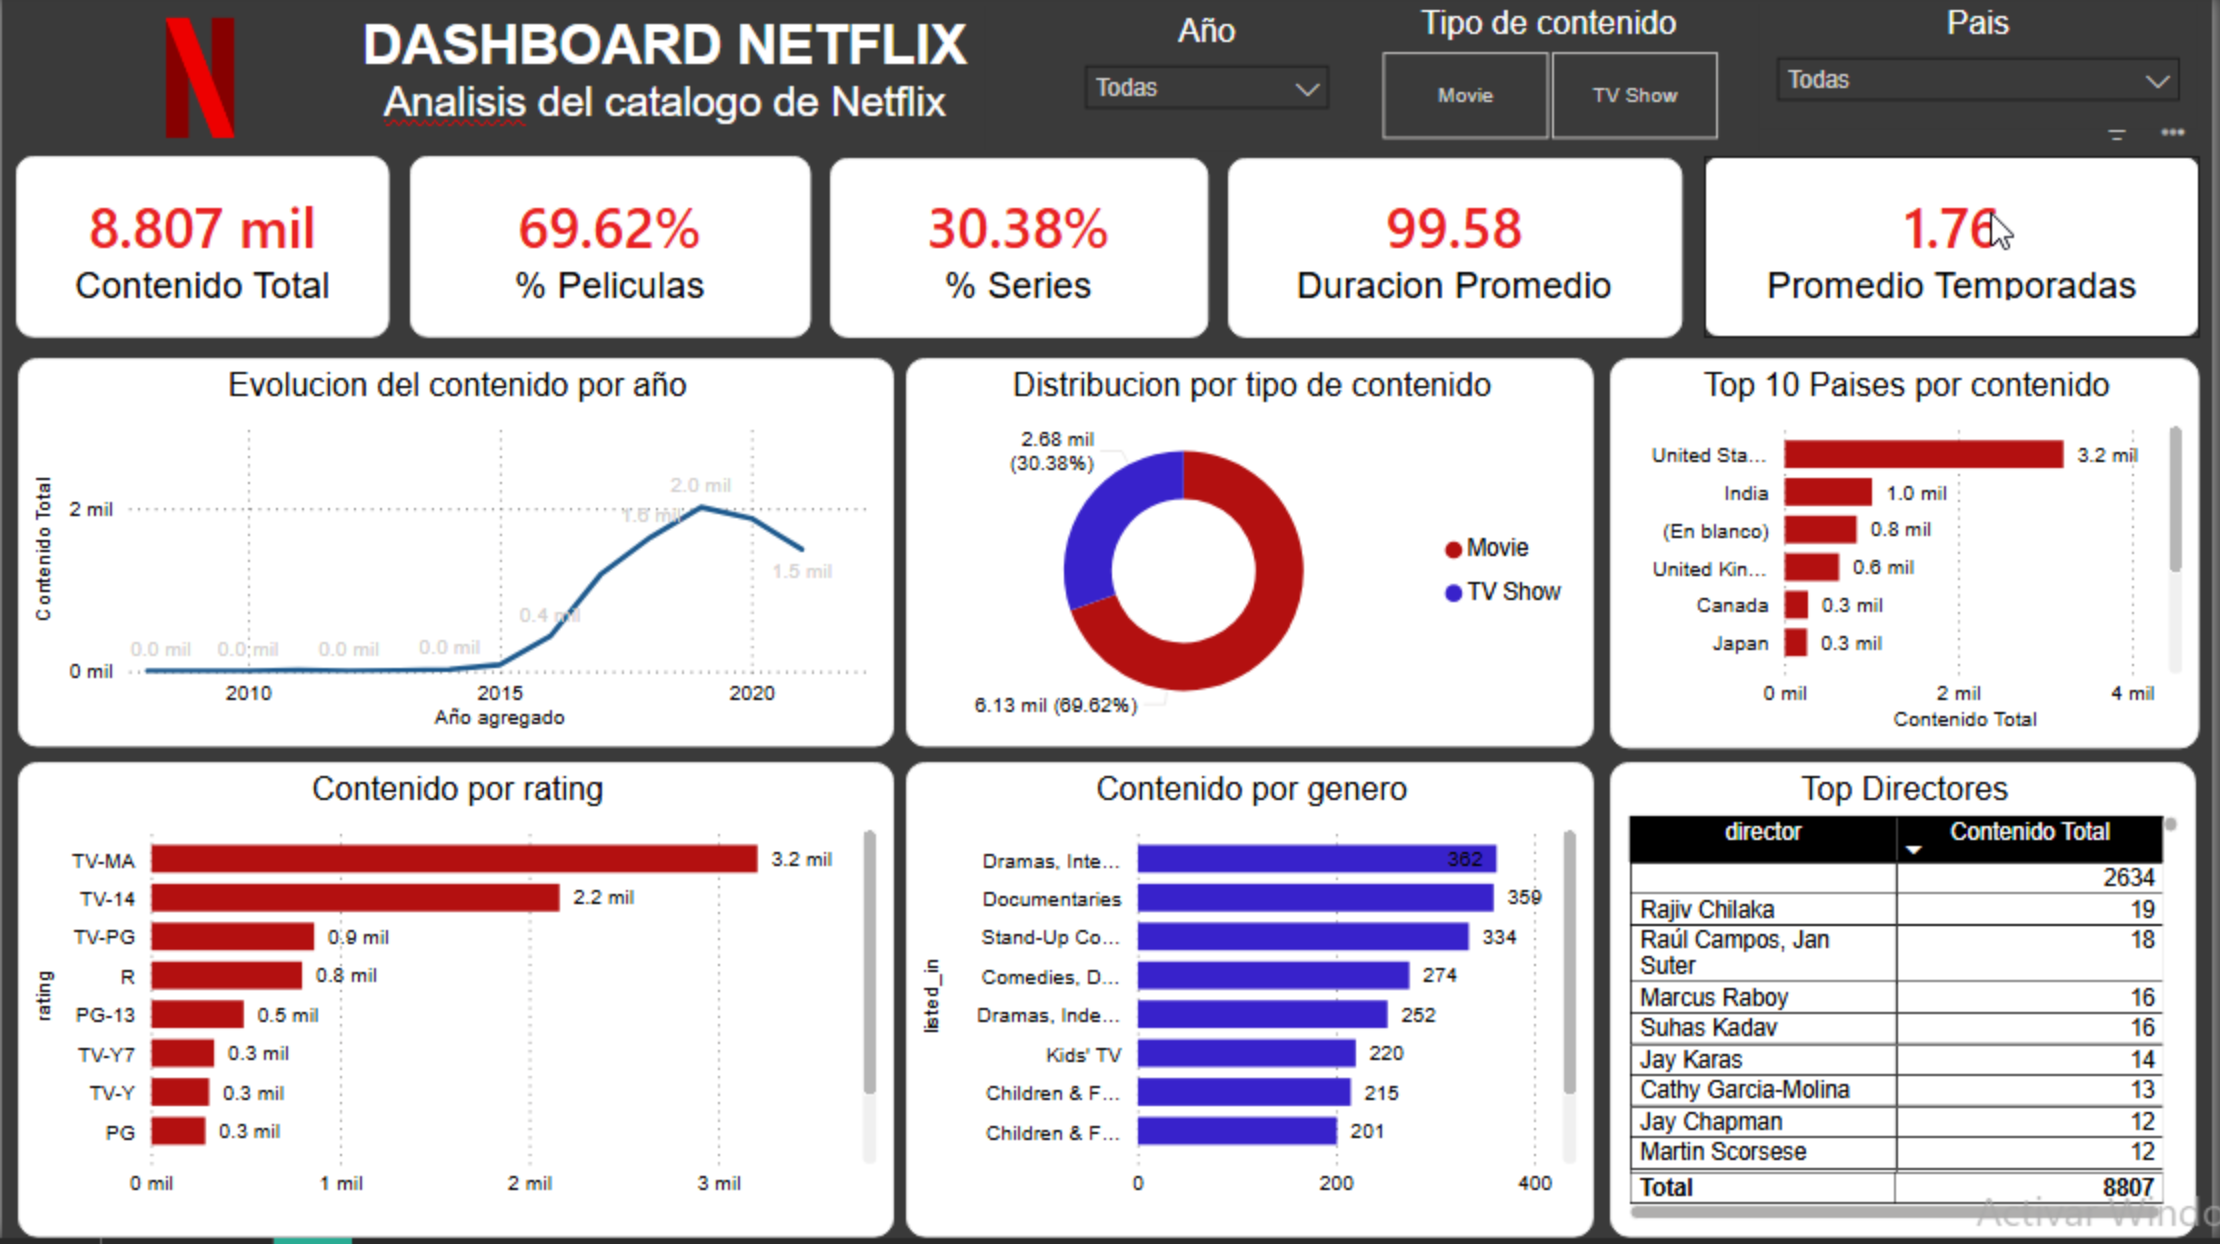

The dashboard page shown, as its layout file describes it:
{"tool":"powerbi","page":{"name":"Página 1","canvas":[1280,720],"ordinal":0},"visuals":[{"type":"textbox","box":[198,7.5,371.1,83.4],"z":0},{"type":"cardVisual","fields":{"Data":["netflix catalogo_final.Contenido Total"]},"box":[8.1,93.8,216.5,105.3],"z":1},{"type":"cardVisual","title":"% Peliculas","fields":{"Data":["netflix catalogo_final.Porcentaje de Peliculas"]},"box":[236.1,93.8,231.5,105.3],"z":2},{"type":"cardVisual","fields":{"Data":["netflix catalogo_final.% Series"]},"box":[479.2,94.9,218.8,104.2],"z":3},{"type":"cardVisual","fields":{"Data":["netflix catalogo_final.Duracion Promedio"]},"box":[709.6,94.9,262.8,104.2],"z":4},{"type":"cardVisual","fields":{"Data":["netflix catalogo_final.Promedio Temporadas"]},"box":[985.1,93.8,287.1,105.3],"z":5},{"type":"lineChart","title":"Evolucion del contenido por año","fields":{"Category":["netflix catalogo_final.year_added"],"Y":["netflix catalogo_final.Contenido Total"]},"box":[8.7,210.4,506.8,225.4],"z":6},{"type":"donutChart","title":"Distribucion por tipo de contenido","fields":{"Category":["netflix catalogo_final.type"],"Y":["netflix catalogo_final.Contenido Total"]},"box":[523,210.4,398.4,225.4],"z":7},{"type":"clusteredBarChart","title":"Top 10 Paises por contenido","fields":{"Category":["netflix catalogo_final.main_country"],"Y":["netflix catalogo_final.Contenido Total"]},"box":[930.7,210.7,341.5,225.7],"z":8},{"type":"clusteredBarChart","title":"Contenido por rating","fields":{"Category":["netflix catalogo_final.rating"],"Y":["netflix catalogo_final.Contenido Total"]},"box":[9.3,444.5,507,275.5],"z":9},{"type":"clusteredBarChart","title":"Contenido por genero","fields":{"Category":["netflix catalogo_final.listed_in"],"Y":["netflix catalogo_final.Contenido Total"]},"box":[523.2,444.5,398.2,275.5],"z":10},{"type":"tableEx","title":"Top Directores","fields":{"Values":["netflix catalogo_final.director","netflix catalogo_final.Contenido Total"]},"box":[930.7,444.5,339.2,275.5],"z":11},{"type":"slicer","title":"Año","fields":{"Values":["netflix catalogo_final.year_added"]},"box":[617,10.4,160.9,79.9],"z":13},{"type":"slicer","title":"Tipo de contenido","fields":{"Values":["netflix catalogo_final.type"]},"box":[773.2,6.2,244,84.7],"z":14},{"type":"slicer","title":"Pais","fields":{"Values":["netflix catalogo_final.main_country"]},"box":[1017.3,6.2,252.8,72.2],"z":15},{"type":"image","box":[57.3,8.7,115.8,78.4],"z":16}]}

Visuals, with their boxes in screenshot pixels (x1, y1, x2, y2), scaled from the page's 1280x720 canvas onto the 2220x1244 screenshot:
textbox: l=343, t=13, r=987, b=157
cardVisual - netflix catalogo_final.Contenido Total: l=14, t=162, r=390, b=344
"% Peliculas" cardVisual: l=409, t=162, r=811, b=344
cardVisual - netflix catalogo_final.% Series: l=831, t=164, r=1211, b=344
cardVisual - netflix catalogo_final.Duracion Promedio: l=1231, t=164, r=1687, b=344
cardVisual - netflix catalogo_final.Promedio Temporadas: l=1709, t=162, r=2206, b=344
"Evolucion del contenido por año" lineChart: l=15, t=364, r=894, b=753
"Distribucion por tipo de contenido" donutChart: l=907, t=364, r=1598, b=753
"Top 10 Paises por contenido" clusteredBarChart: l=1614, t=364, r=2206, b=754
"Contenido por rating" clusteredBarChart: l=16, t=768, r=895, b=1243
"Contenido por genero" clusteredBarChart: l=907, t=768, r=1598, b=1243
"Top Directores" tableEx: l=1614, t=768, r=2202, b=1243
"Año" slicer: l=1070, t=18, r=1349, b=156
"Tipo de contenido" slicer: l=1341, t=11, r=1764, b=157
"Pais" slicer: l=1764, t=11, r=2203, b=135
image: l=99, t=15, r=300, b=150
